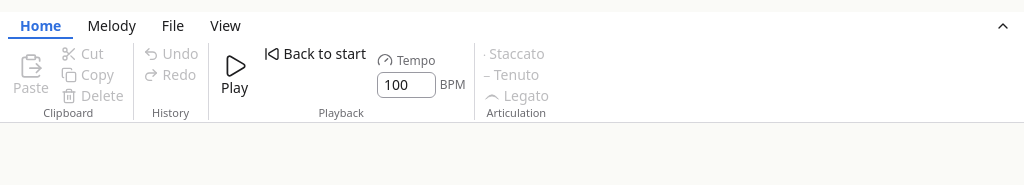
Test: Ribbon tooltips (003 US3, FR-008) › opens after the hover delay and closes on leave
Hover over the element showing "Paste": coordinates (31, 74) x1=8 y1=43 x2=54 y2=106
Wait 500 ms
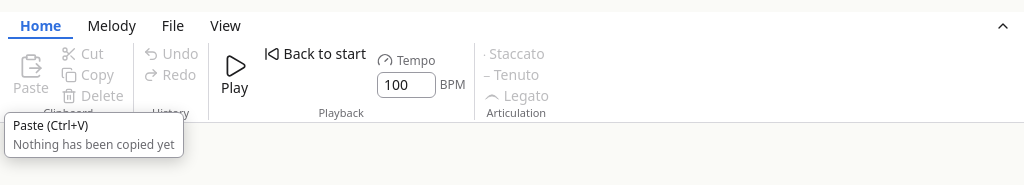
Result: the tooltip shows "Paste (Ctrl+V)" at x1=4 y1=112 x2=184 y2=158
Result: the tooltip shows "Nothing has been copied yet" at x1=13 y1=136 x2=175 y2=153
Move the pointer off the element showing "Paste", box x1=8 y1=43 x2=54 y2=106
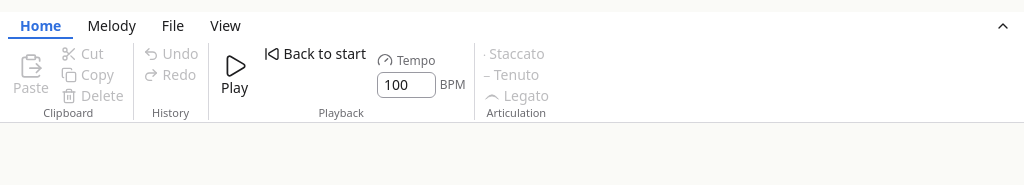
Result: the tooltip "Paste (Ctrl+V) Nothing has been copied yet" is gone
